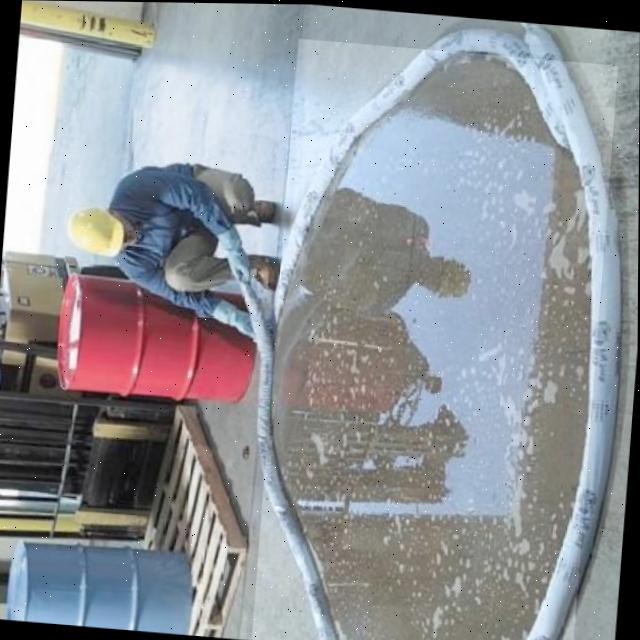spillage: (276, 52, 594, 640)
